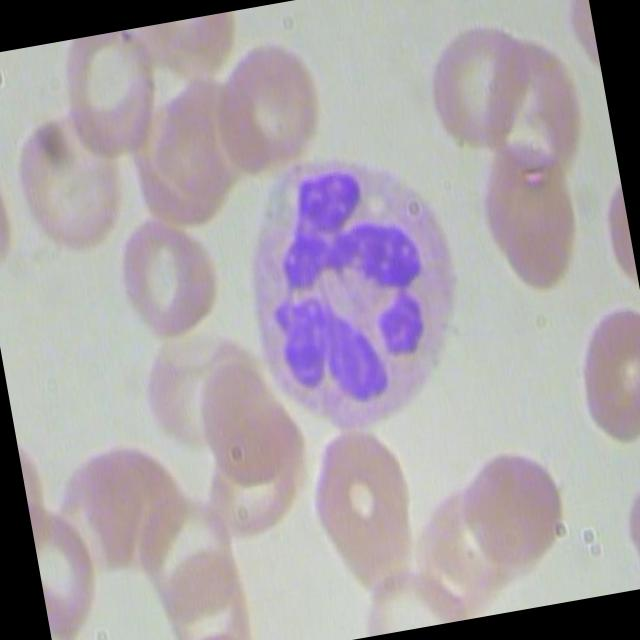RBC: (294, 415, 426, 592), (466, 130, 598, 306), (2, 102, 138, 265), (409, 0, 539, 155), (107, 200, 235, 346), (206, 31, 334, 176), (51, 24, 178, 168), (458, 439, 579, 574), (422, 462, 543, 596), (188, 345, 301, 487), (564, 298, 640, 448)
WBC: (222, 137, 488, 446)
